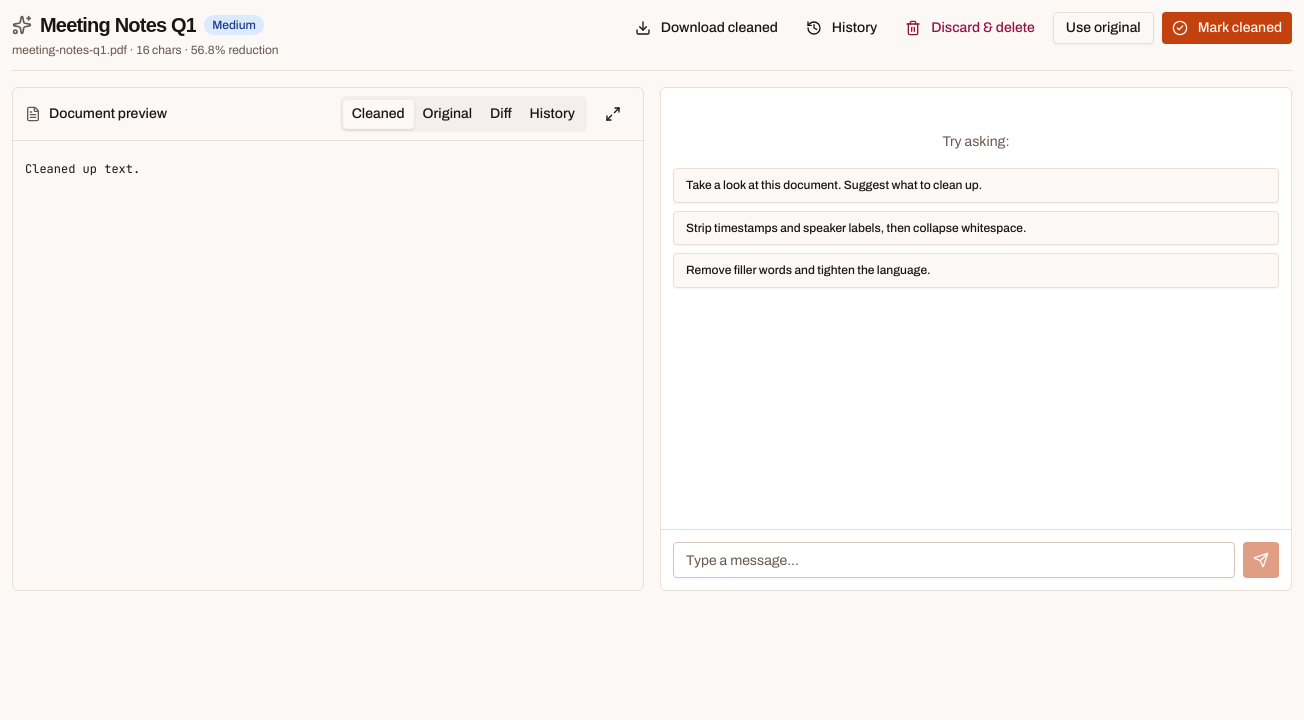
Scenario: CleanupView › displays an error message when the finalise POST fails
Click the button "Mark cleaned": (1227, 28) [1162, 12, 1292, 44]
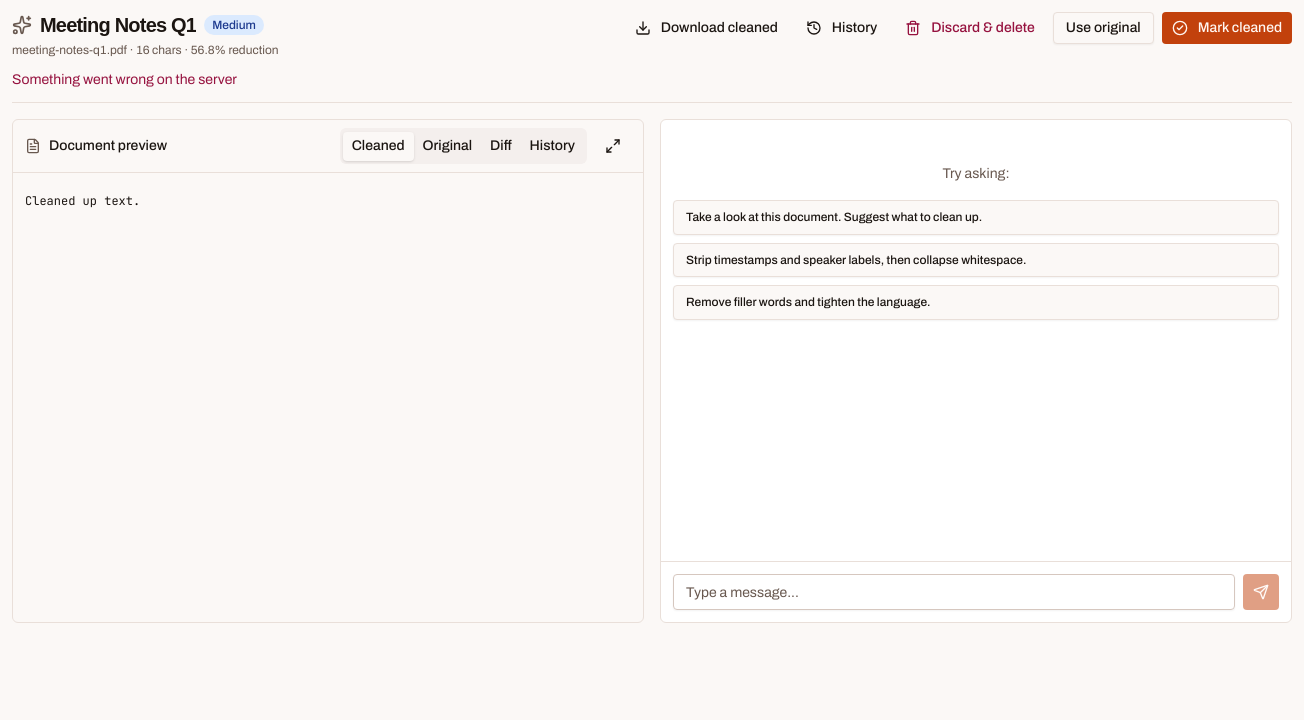
expect the text "Something went wrong on the server" is shown: met, box [12, 72, 237, 87]
